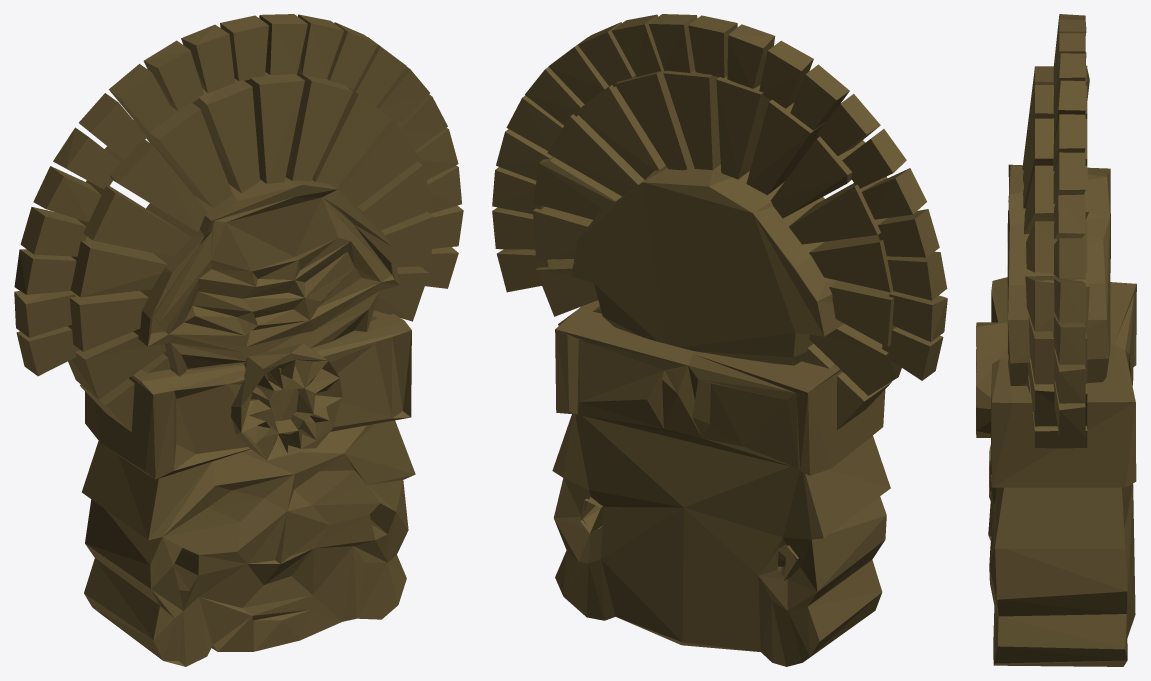
Rendered from aztec-god.lod1.glb.
3 views of the same model, side by side, from view 1: azimuth 30°, elevation 25°; view 2: azimuth 150°, elevation 25°; view 3: azimuth 270°, elevation 25° (orthographic). The views are drawn at different scales.
Parts seen in each view (by area): view 1: Aztec God_Aztec God_0; view 2: Aztec God_Aztec God_0; view 3: Aztec God_Aztec God_0.
Boxes of the visible parts, box(x1,y1,x2,y2) form: Aztec God_Aztec God_0: box(14, 14, 463, 666); Aztec God_Aztec God_0: box(492, 14, 947, 666); Aztec God_Aztec God_0: box(976, 14, 1136, 666).
Bounding box in the file's own units: 3.82 × 4.98 × 1.24.
